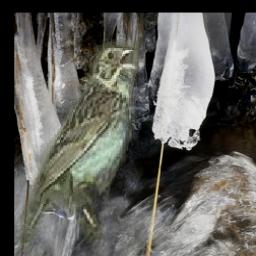Sparrow: (21, 32, 140, 251)
